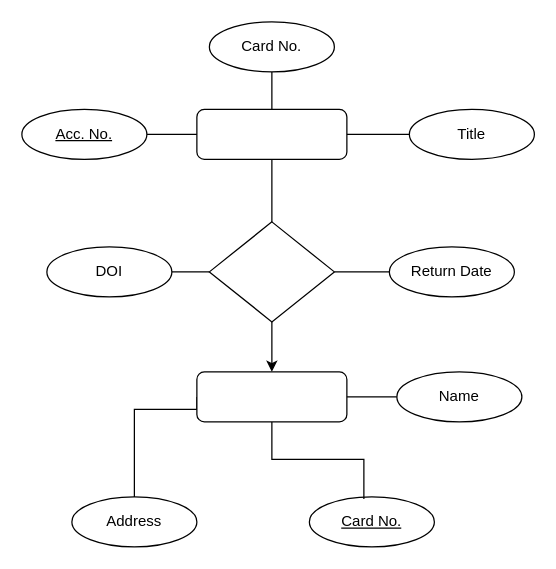
This 556x569 diagram has some shape labels left out. Here are the shapes that lost their labels. From the top down, the box of each, then its label:
(196, 108, 347, 159): Book
(208, 221, 334, 322): Issued to
(196, 371, 347, 422): Member
